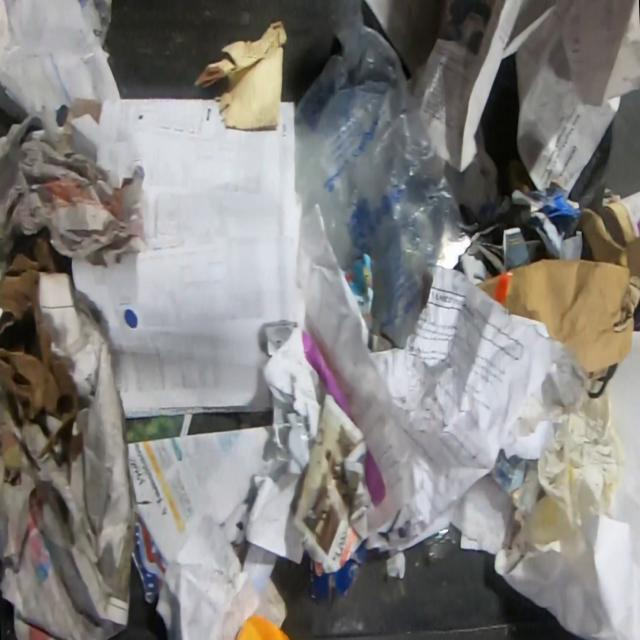cardboard: (472, 201, 640, 373), (0, 223, 84, 470), (509, 179, 583, 259), (307, 539, 369, 605)
soft_plastic: (294, 0, 460, 347)
